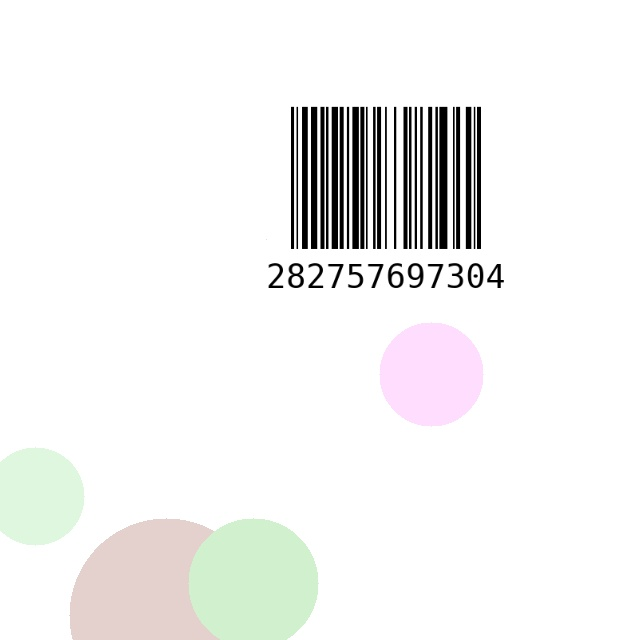barcode: (267, 98, 505, 322)
